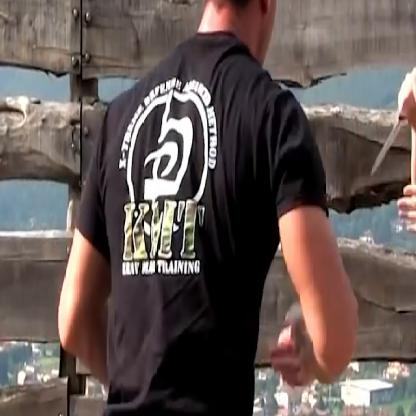knife: (364, 48, 416, 184)
